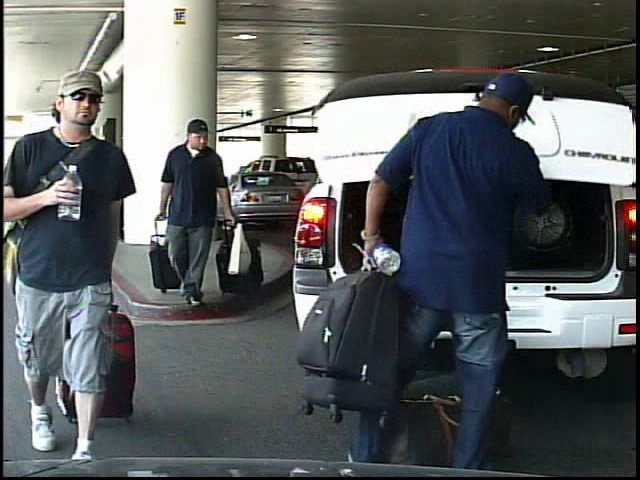person: (355, 74, 541, 476), (5, 64, 164, 478), (155, 114, 254, 311)
